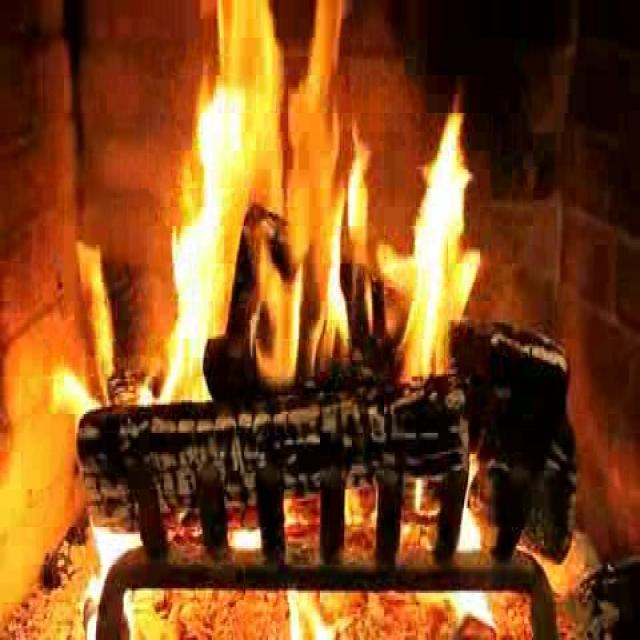fire: (144, 9, 466, 390)
